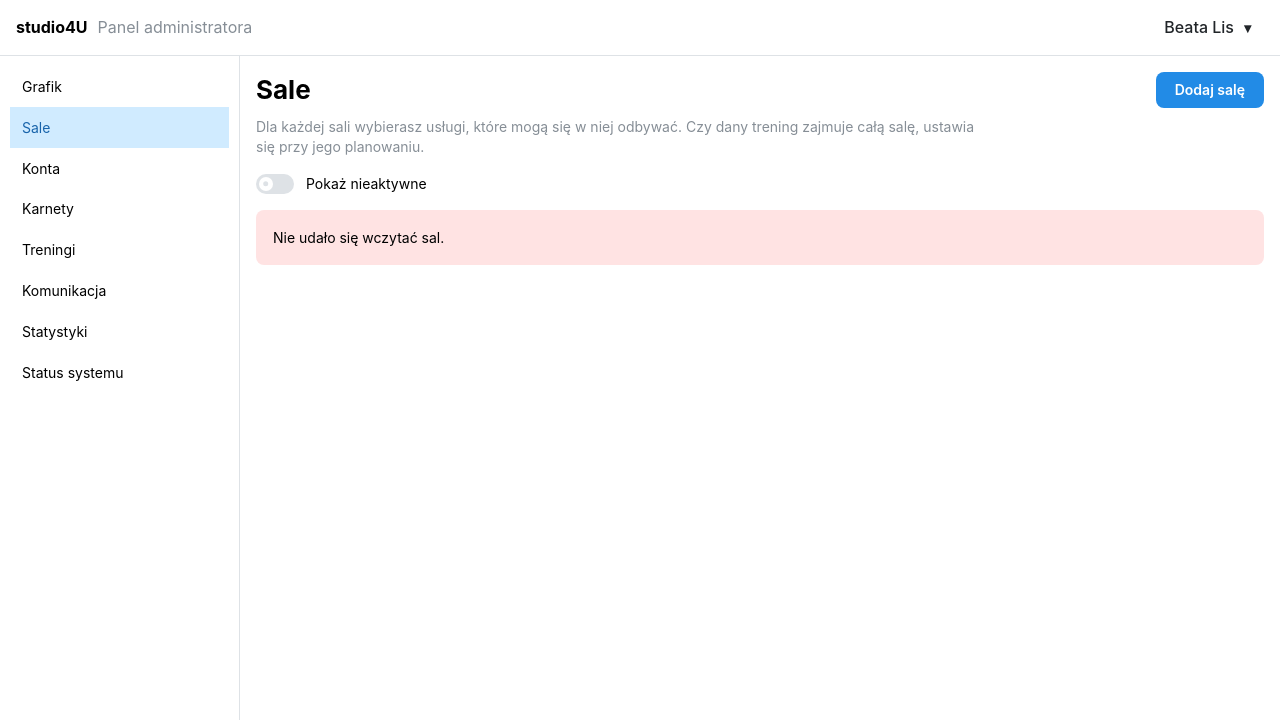
it: shows the e-mail and the logout in the account menu
Click the button "Beata Lis ▾". click: coordinates (1205, 28)
box: [1145,10,1264,46]
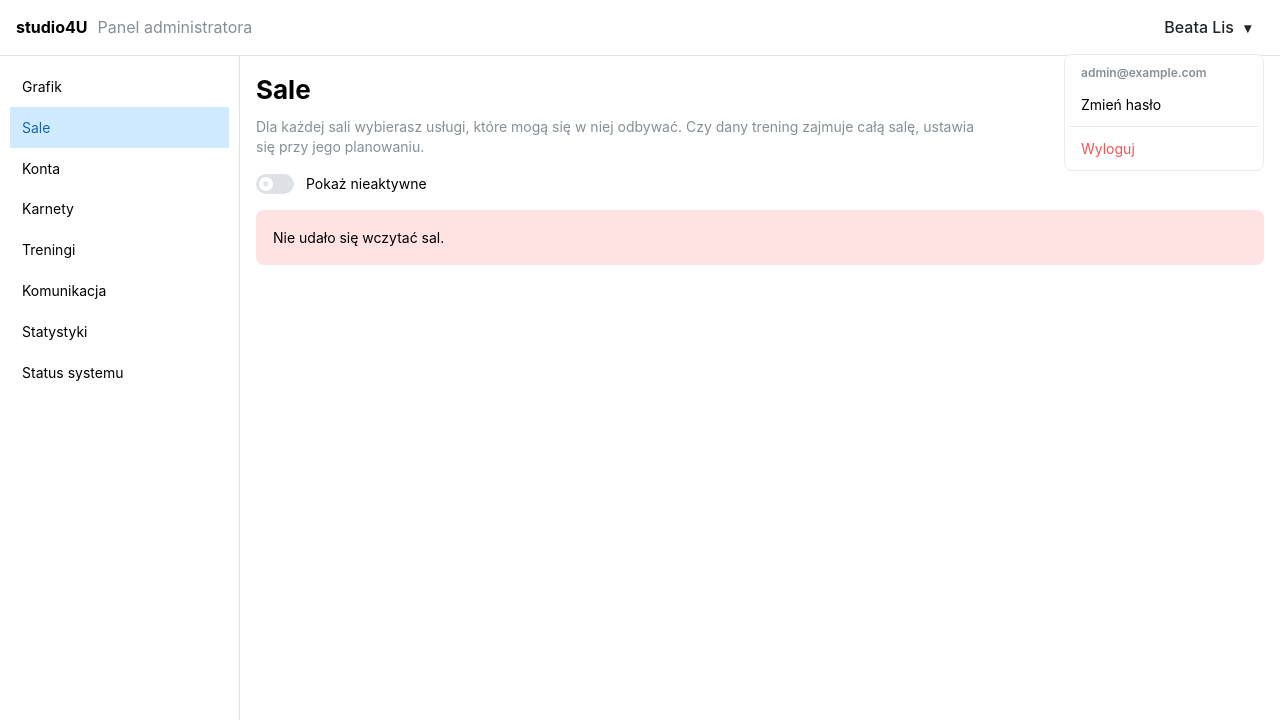
Click the menu item "Wyloguj". click: coordinates (1164, 149)
box: [1069,131,1259,166]
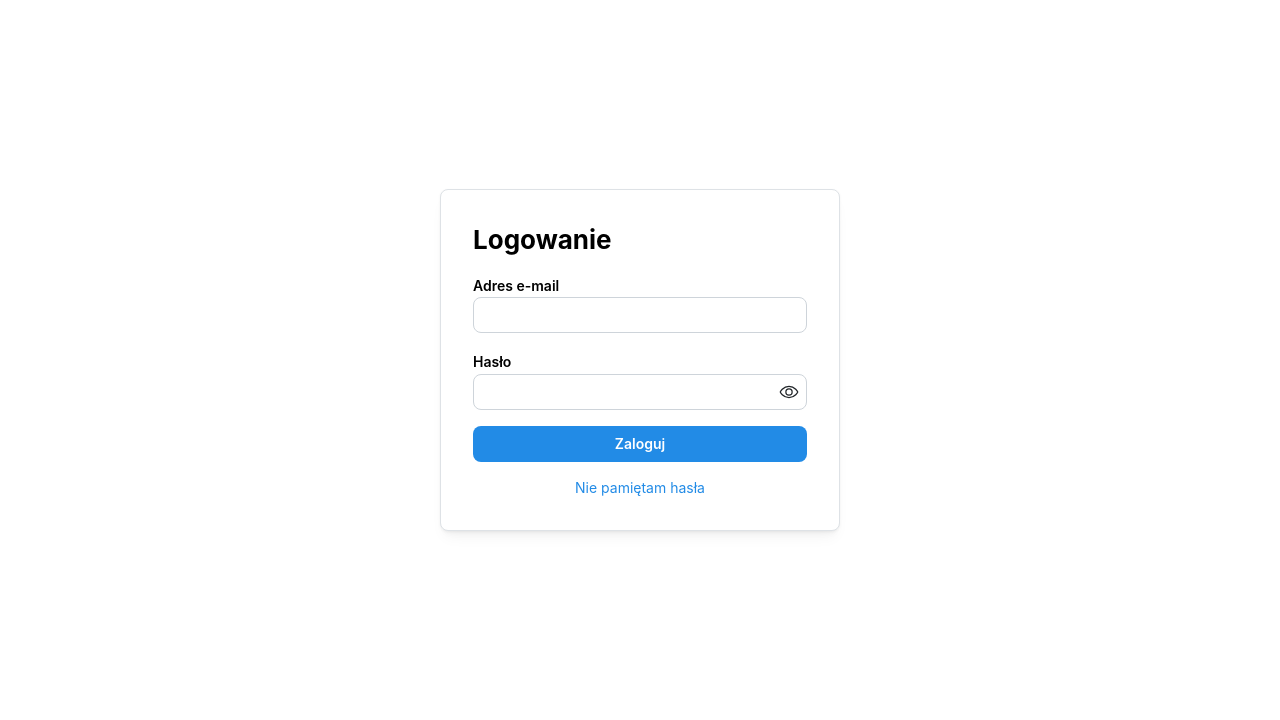
Check: the heading "Logowanie" is shown, box [473,224,612,254]
